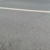zebra: (1, 30, 50, 48)
